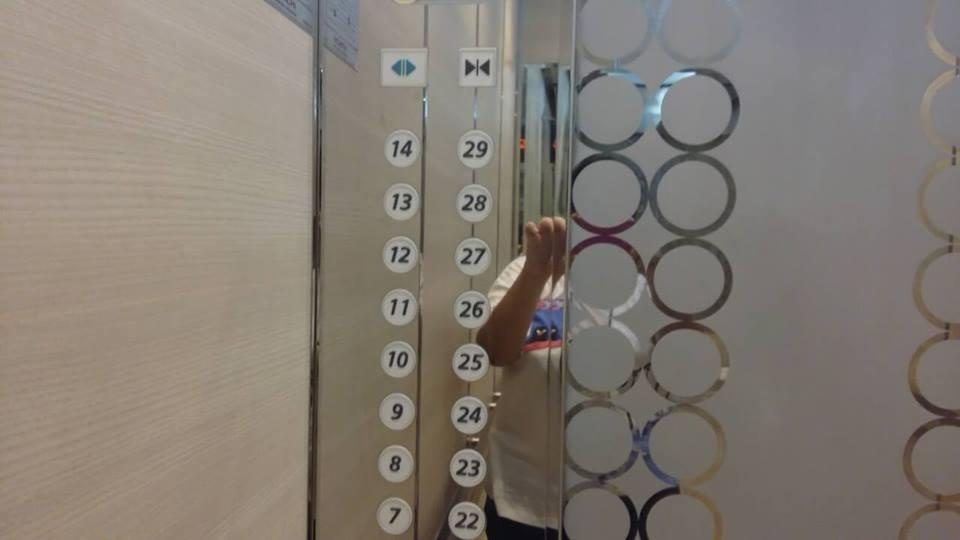10: (376, 337, 418, 382)
11: (379, 285, 421, 330)
12: (379, 231, 421, 276)
13: (381, 179, 423, 224)
14: (381, 126, 423, 171)
22: (444, 495, 486, 540)
23: (446, 446, 488, 491)
24: (446, 393, 488, 438)
25: (447, 340, 489, 385)
26: (450, 287, 492, 332)
27: (451, 234, 493, 279)
28: (453, 182, 495, 227)
29: (452, 128, 494, 173)
7: (372, 493, 414, 538)
8: (374, 440, 416, 485)
9: (375, 389, 417, 434)
close: (455, 44, 499, 91)
open: (379, 45, 431, 91)
